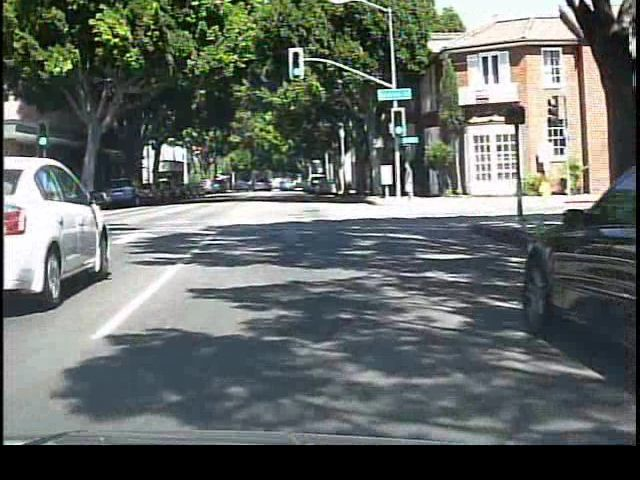person: (402, 157, 422, 206)
